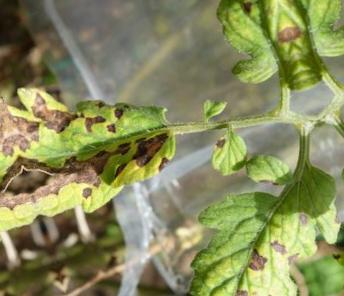Tomato Septoria leaf spot: (0, 29, 196, 228), (137, 137, 344, 296), (192, 0, 311, 118)
